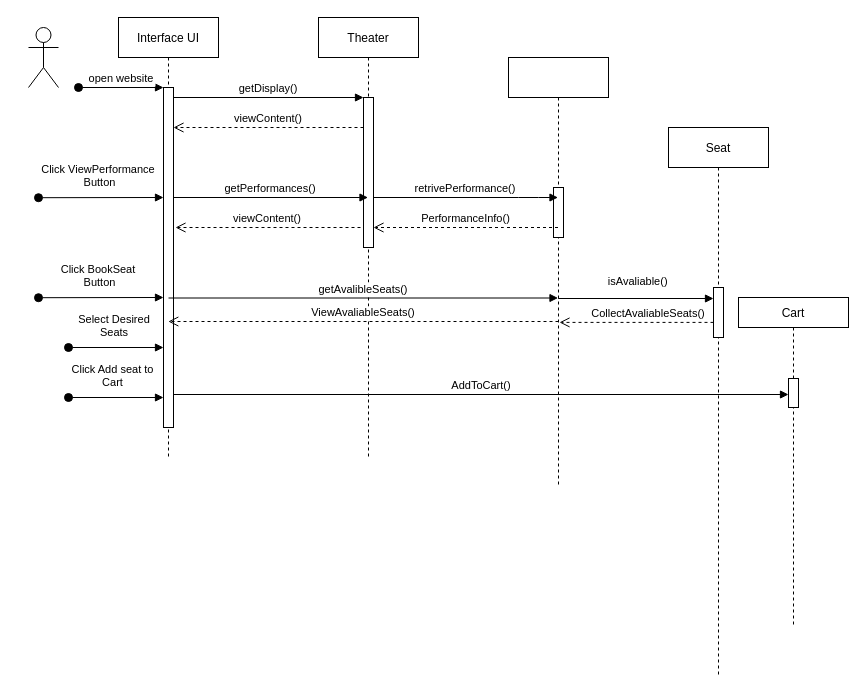
This 866x695 diagram has some shape labels left out. The box of each missing label's shape, as (x1, y1, x2, y2) in pixels:
Customer: (28, 26, 58, 88)
Performance: (508, 56, 608, 488)
